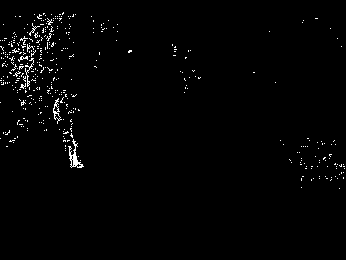person: (52, 90, 85, 167)
